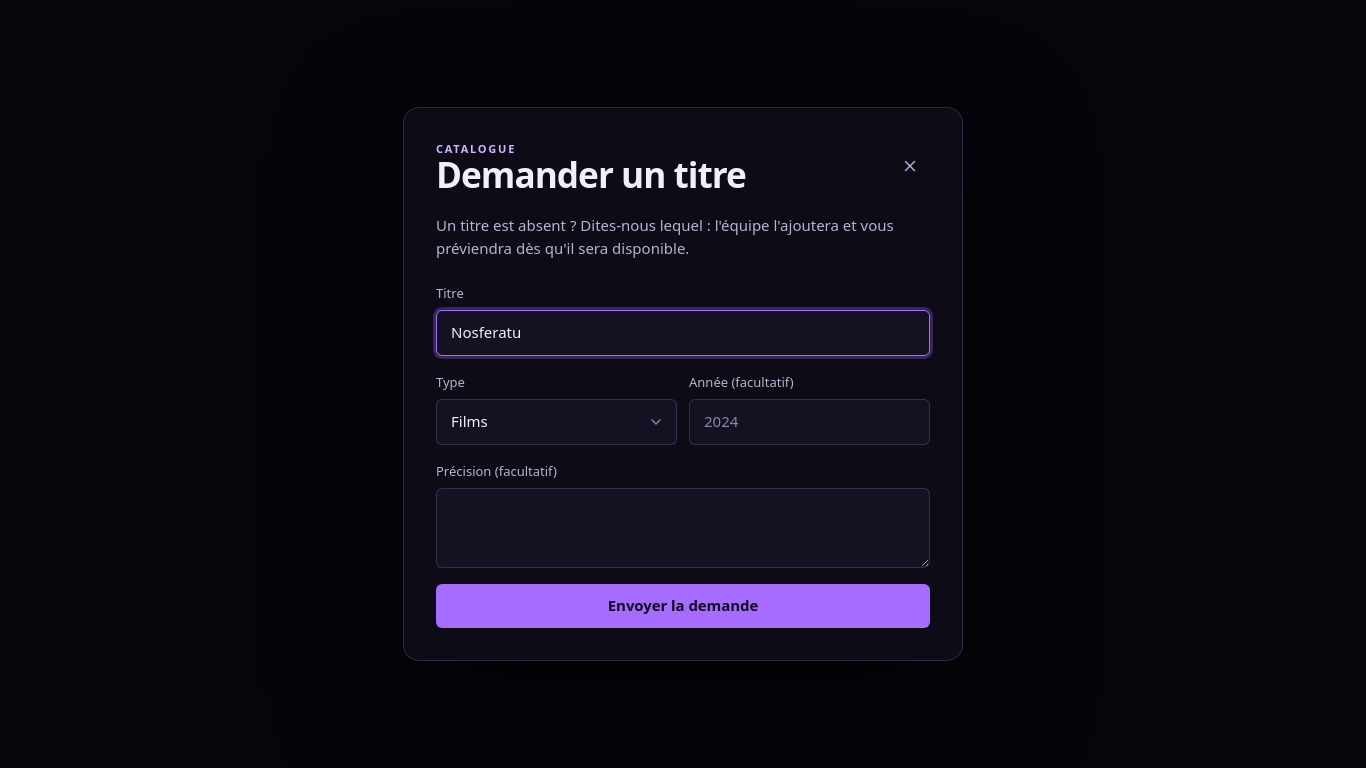
Test: RequestDialog : messages d'erreur › une panne du serveur donne un message de service indisponible
The width and height of the screenshot is (1366, 768).
Click the button "Envoyer la demande": (683, 606) [436,584,930,628]
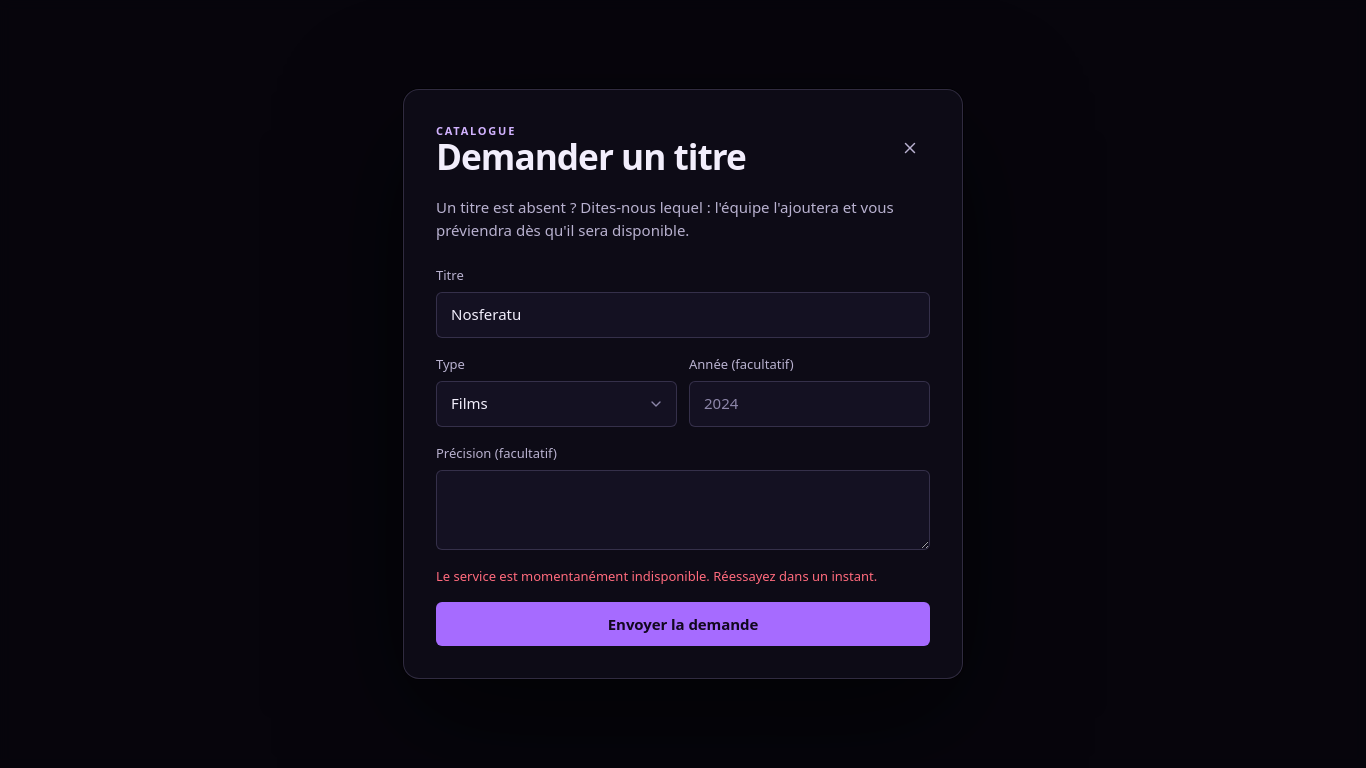
expect the message reads "Le service est momentanément indisponible. Réessayez dans un instant.": met, box [436,567,877,585]
